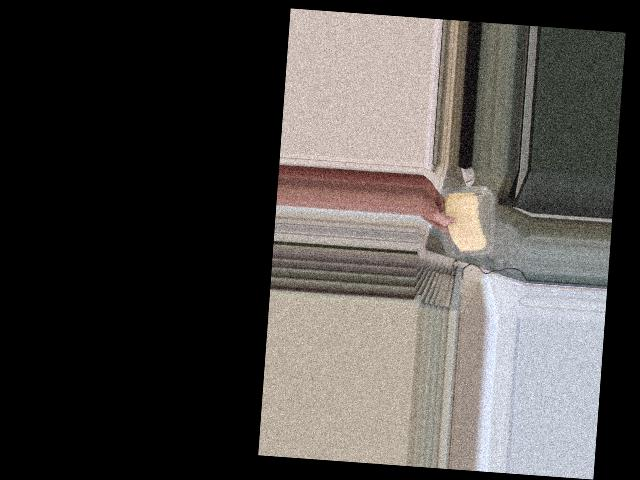cheese: (436, 183, 493, 258)
